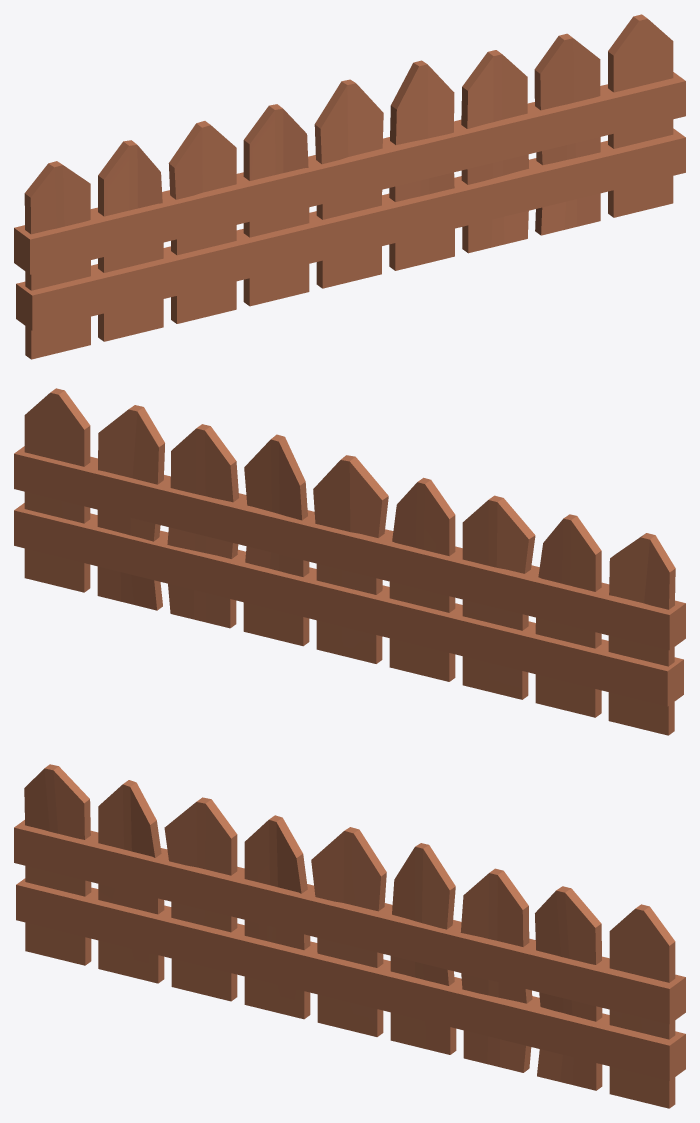
File: hedge-type-002.obj
3 views of the same model, one above another, from view 1: azimuth 30°, elevation 25°; view 2: azimuth 150°, elevation 25°; view 3: azimuth 330°, elevation 25° (orthographic).
Parts seen in each view (by area): view 1: hedge-type-002.001; view 2: hedge-type-002.001; view 3: hedge-type-002.001.
Boxes of the visible parts, box(x1,y1,x2,y2) form: hedge-type-002.001: box(14, 14, 685, 359); hedge-type-002.001: box(14, 388, 685, 735); hedge-type-002.001: box(14, 764, 685, 1108).
Bounding box in the file's own units: 2.44 × 0.7083 × 0.1139.
